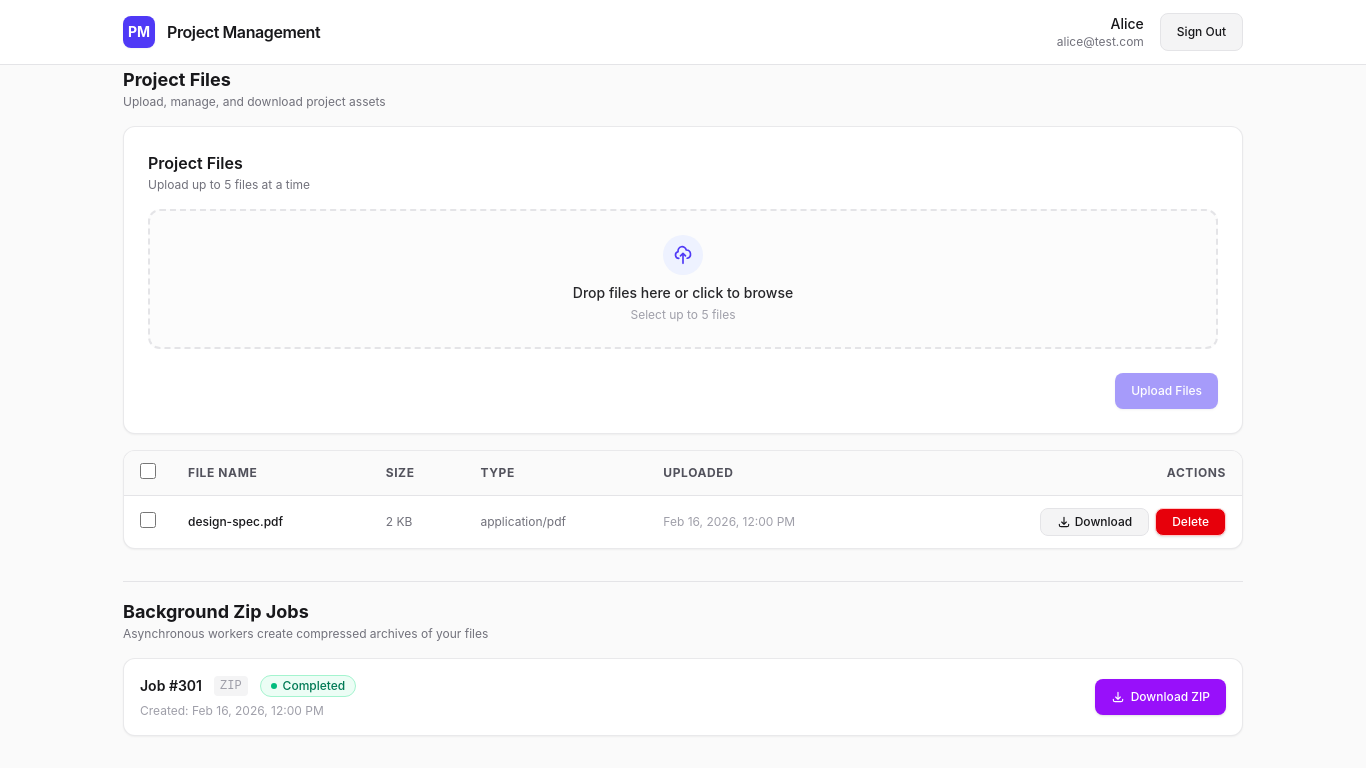
ProjectDetailPage (TDD) › should trigger createZipJob when files are selected and archive button is clicked
Later steps or results of the test are not shown.
(page scrolled)
Check: the text "design-spec.pdf" is shown, box [188,514,283,530]
# Select the file
Click the checkbox named "select file 501": click(148, 520) [140,512,156,528]
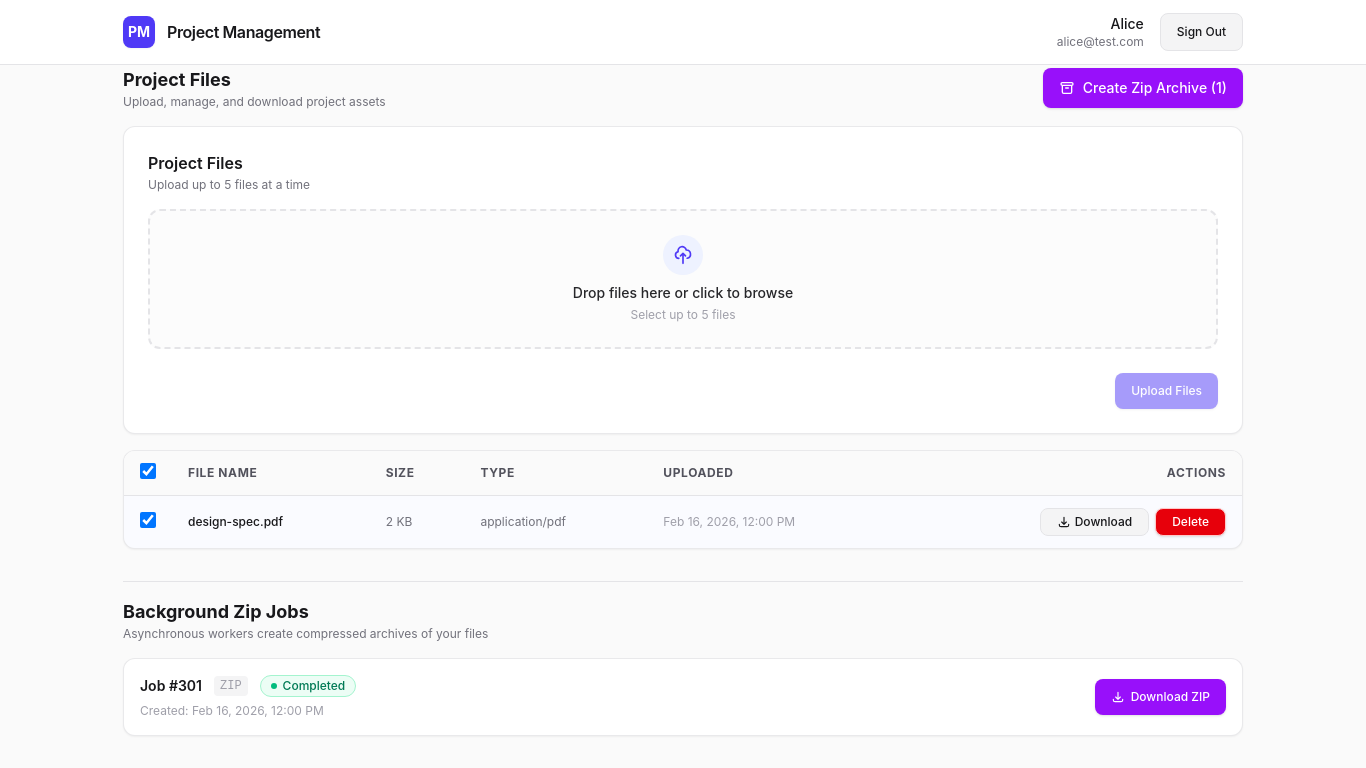
Check: the button "Create Zip Archive (1)" is shown, box [1043,68,1243,108]
